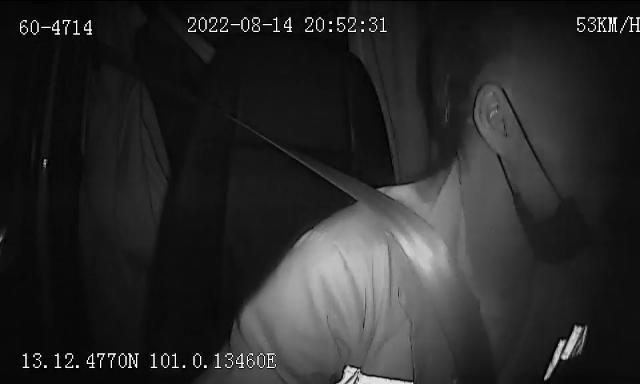Seatbelt: (262, 134, 498, 384)
